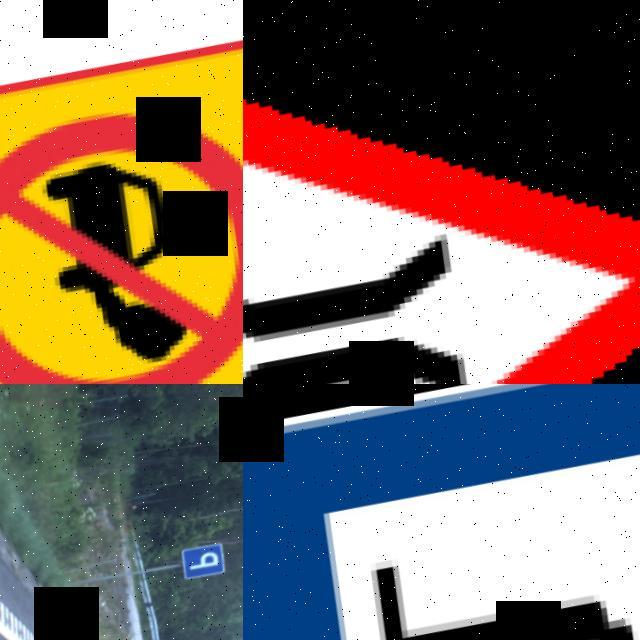70: (0, 0, 243, 384)
86: (178, 537, 236, 581)
Filling station: (243, 384, 640, 640)
Narrow bridge: (243, 0, 640, 384)
